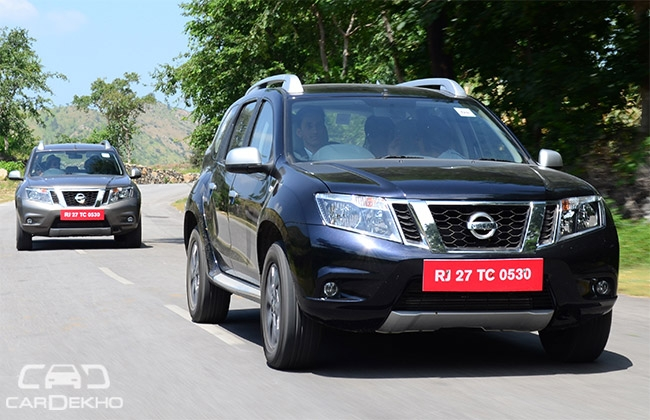number_plate: (418, 250, 549, 305)
